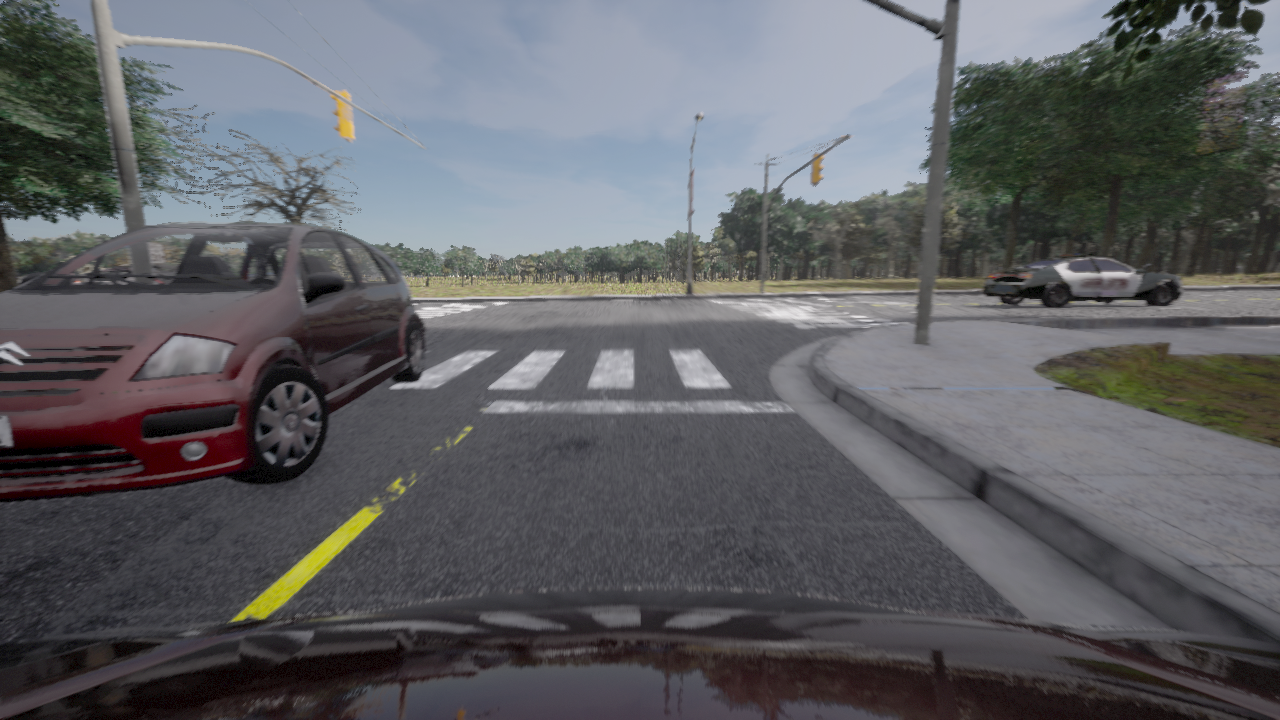cyclist: (0, 588, 1279, 719), (0, 222, 426, 502), (982, 253, 1181, 307)
